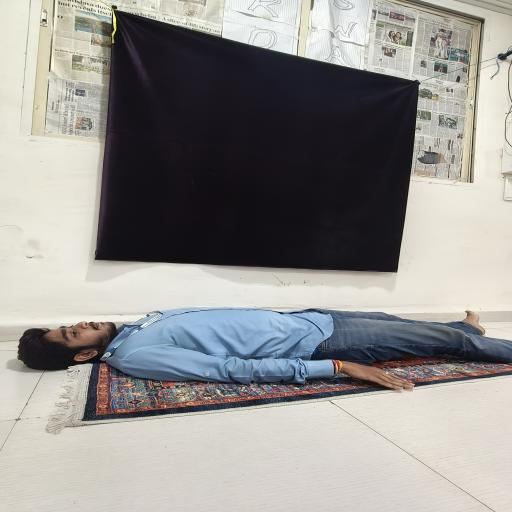survivor: (17, 307, 512, 390)
